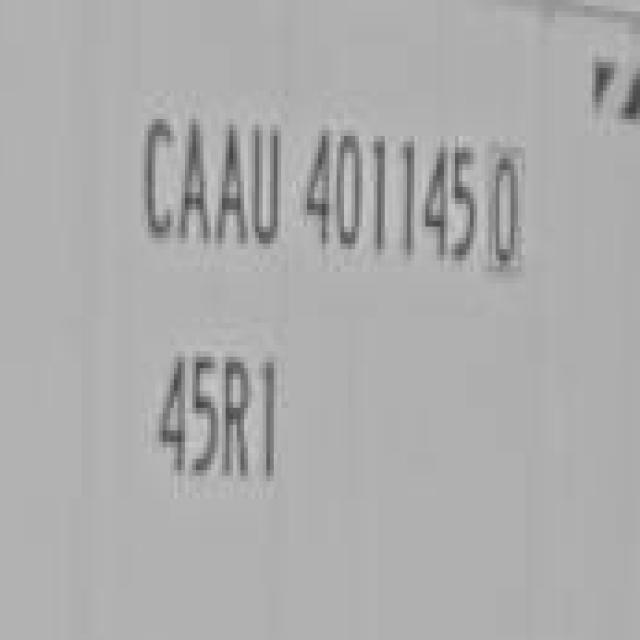dv: (484, 139, 538, 282)
owner: (136, 93, 290, 261)
serial: (300, 110, 478, 280)
size: (154, 331, 294, 505)
